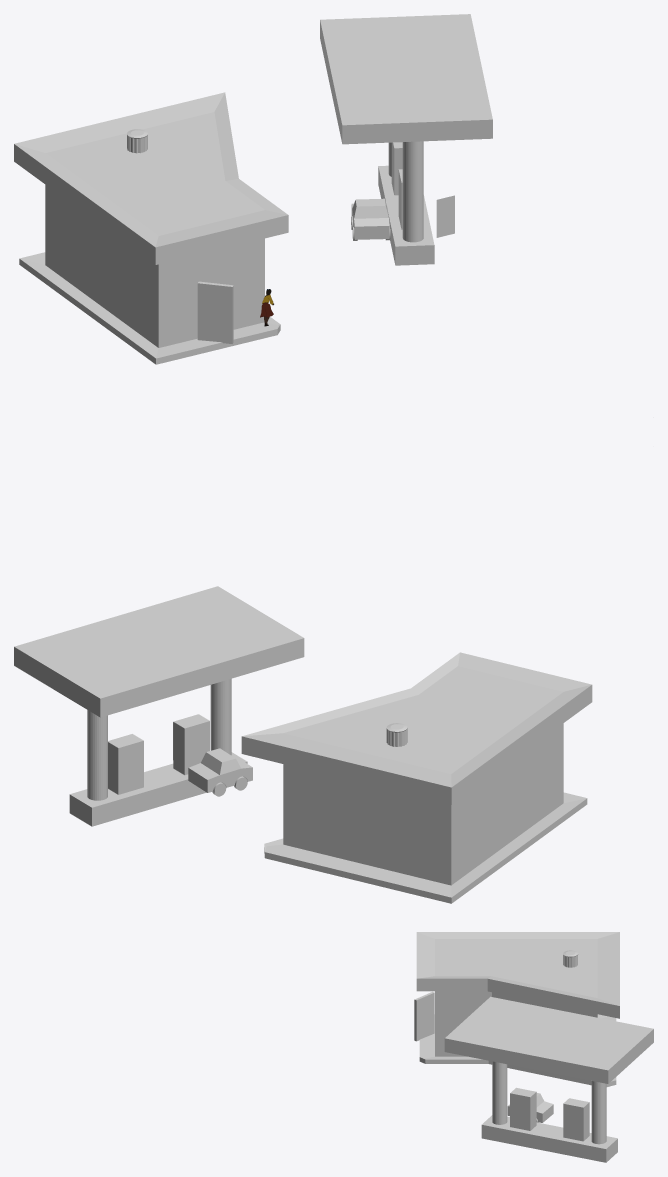
3 views of the same model, one above another, from view 1: azimuth 30°, elevation 25°; view 2: azimuth 150°, elevation 25°; view 3: azimuth 270°, elevation 25° (orthographic). The views are drawn at different scales.
Parts seen in each view (by area): view 1: building.001, carport_roof.001, carport_base.001, carport_pillar_near.001, door.001, car_body.001, chester.001; view 2: building.001, carport_roof.001, carport_base.001, car_body.001, carport_pillar_far.001, carport_pillar_near.001; view 3: building.001, carport_roof.001, carport_base.001, carport_pillar_near.001, carport_pillar_far.001, door.001, car_body.001.
Part boxes in pixels (bbox=[...]): building.001: bbox=[14, 92, 288, 364]; carport_roof.001: bbox=[320, 14, 492, 144]; carport_base.001: bbox=[378, 142, 434, 265]; carport_pillar_near.001: bbox=[402, 141, 423, 242]; door.001: bbox=[197, 281, 233, 343]; car_body.001: bbox=[351, 198, 389, 239]; chester.001: bbox=[436, 195, 454, 237]; building.001: bbox=[241, 652, 592, 903]; carport_roof.001: bbox=[14, 586, 304, 717]; carport_base.001: bbox=[69, 714, 247, 826]; car_body.001: bbox=[188, 748, 252, 792]; carport_pillar_far.001: bbox=[87, 710, 107, 800]; carport_pillar_near.001: bbox=[210, 678, 231, 755]; building.001: bbox=[416, 932, 619, 1086]; carport_roof.001: bbox=[444, 996, 653, 1083]; carport_base.001: bbox=[481, 1087, 617, 1162]; carport_pillar_near.001: bbox=[492, 1061, 507, 1124]; carport_pillar_far.001: bbox=[591, 1081, 606, 1144]; door.001: bbox=[414, 991, 434, 1041]; car_body.001: bbox=[507, 1093, 553, 1122].
Size of what is drawn, in the model's own units: 4920 by 1628 by 8463.
